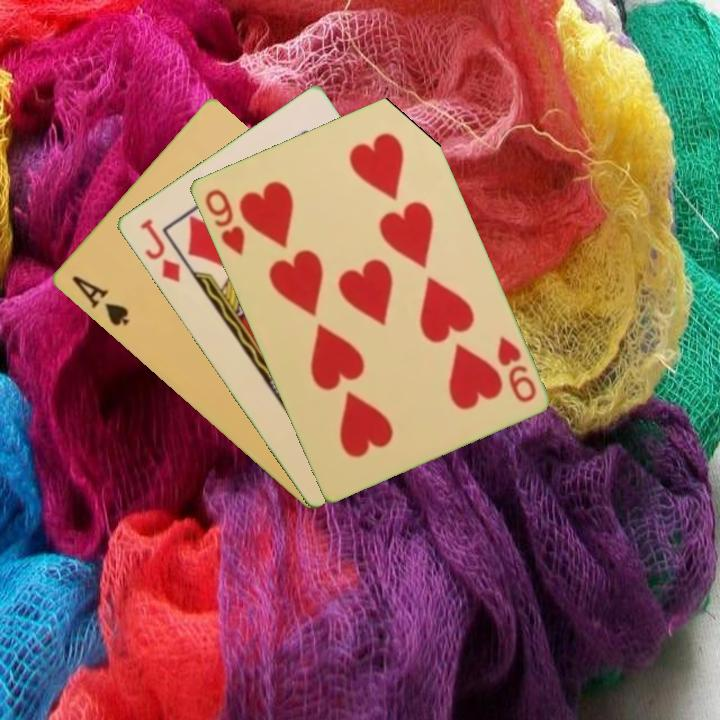9h: (200, 185, 248, 259), (493, 332, 539, 406)
As: (68, 272, 132, 330)
Jd: (136, 215, 183, 286)
